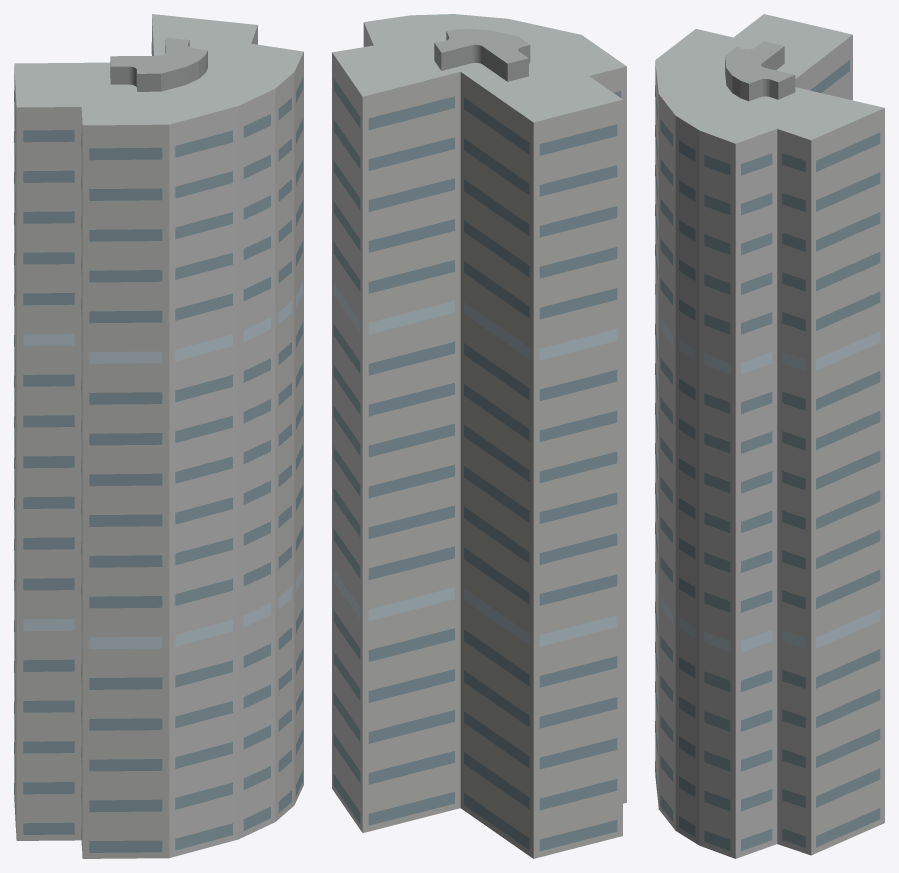
The model's file is fallback-jamsil-parkrio-214.glb.
3 views of the same model, side by side, from view 1: azimuth 30°, elevation 25°; view 2: azimuth 150°, elevation 25°; view 3: azimuth 270°, elevation 25° (orthographic). The views are drawn at different scales.
Parts seen in each view (by area): view 1: fallback-jamsil-parkrio-214; view 2: fallback-jamsil-parkrio-214; view 3: fallback-jamsil-parkrio-214.
Part boxes in pixels (<box>): fallback-jamsil-parkrio-214: <box>14,14,303,858</box>; fallback-jamsil-parkrio-214: <box>332,14,626,858</box>; fallback-jamsil-parkrio-214: <box>655,14,884,858</box>.
Size of the model in its own units: 37.98 by 100 by 28.41.
